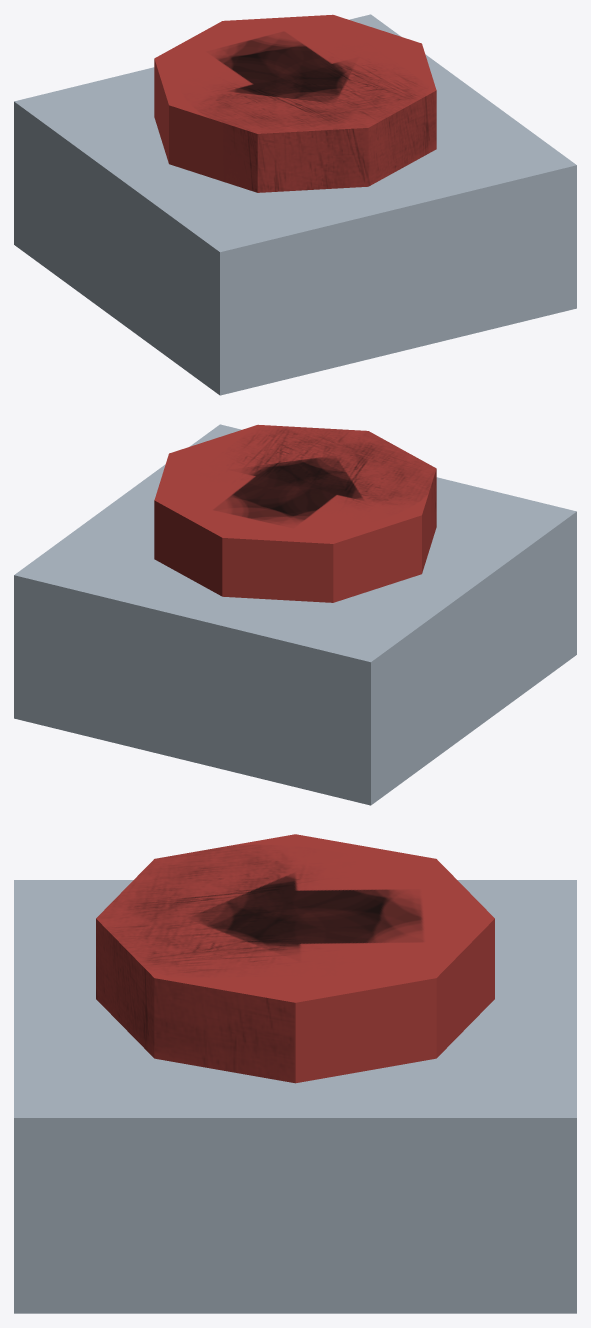
The model's file is button.fbx.
3 renders of one model, top to bottom at view 1: azimuth 30°, elevation 25°; view 2: azimuth 150°, elevation 25°; view 3: azimuth 270°, elevation 25°, orthographic. The views are drawn at different scales.
Parts seen in each view (by area): view 1: polySurface1, polySurface2; view 2: polySurface1, polySurface2; view 3: polySurface1, polySurface2.
Boxes of the visible parts, x1,y1,x2,y2 form: polySurface1: (14, 14, 576, 395); polySurface2: (154, 14, 436, 192); polySurface1: (14, 424, 576, 805); polySurface2: (154, 424, 436, 602); polySurface1: (14, 880, 576, 1313); polySurface2: (96, 834, 494, 1083).
Bounding box in the file's own units: 65.35 × 35.39 × 65.35.
Materials: 1 (1 with a texture image).
